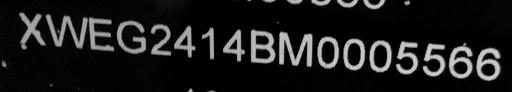letter: (44, 11, 88, 50), (276, 28, 314, 68), (115, 18, 147, 56), (16, 10, 48, 47), (86, 13, 116, 51), (248, 26, 276, 66), (474, 44, 502, 80), (446, 44, 474, 78), (315, 34, 341, 70), (367, 38, 393, 74), (394, 38, 420, 74), (420, 40, 446, 76), (220, 27, 246, 61), (148, 21, 172, 57), (340, 36, 366, 69), (172, 23, 196, 57), (199, 23, 217, 61)
